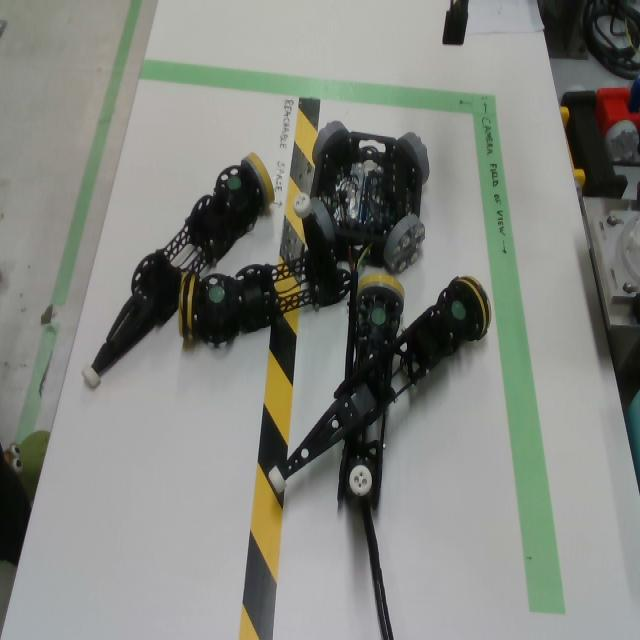body: (310, 132, 423, 268)
body_connector: (383, 215, 425, 275), (399, 132, 430, 184), (311, 121, 349, 163), (310, 197, 336, 249)
leg: (268, 276, 492, 493), (82, 153, 275, 389), (178, 192, 351, 348), (354, 275, 405, 369), (337, 413, 385, 512)
leg_connector: (450, 276, 492, 343), (241, 152, 275, 208), (357, 273, 405, 312), (179, 269, 201, 341)
leg_marker: (209, 285, 225, 303), (452, 300, 466, 320), (372, 308, 386, 325), (227, 176, 241, 191)
